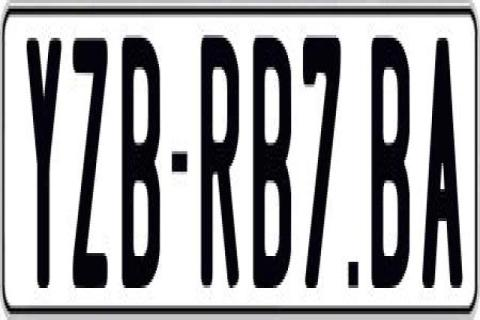0: (303, 32, 341, 300)
A: (420, 35, 462, 299)
B: (120, 29, 164, 294), (250, 38, 296, 291), (371, 32, 414, 282)
R: (200, 29, 240, 294)
Y: (27, 32, 65, 288)
Z: (73, 38, 108, 291)
